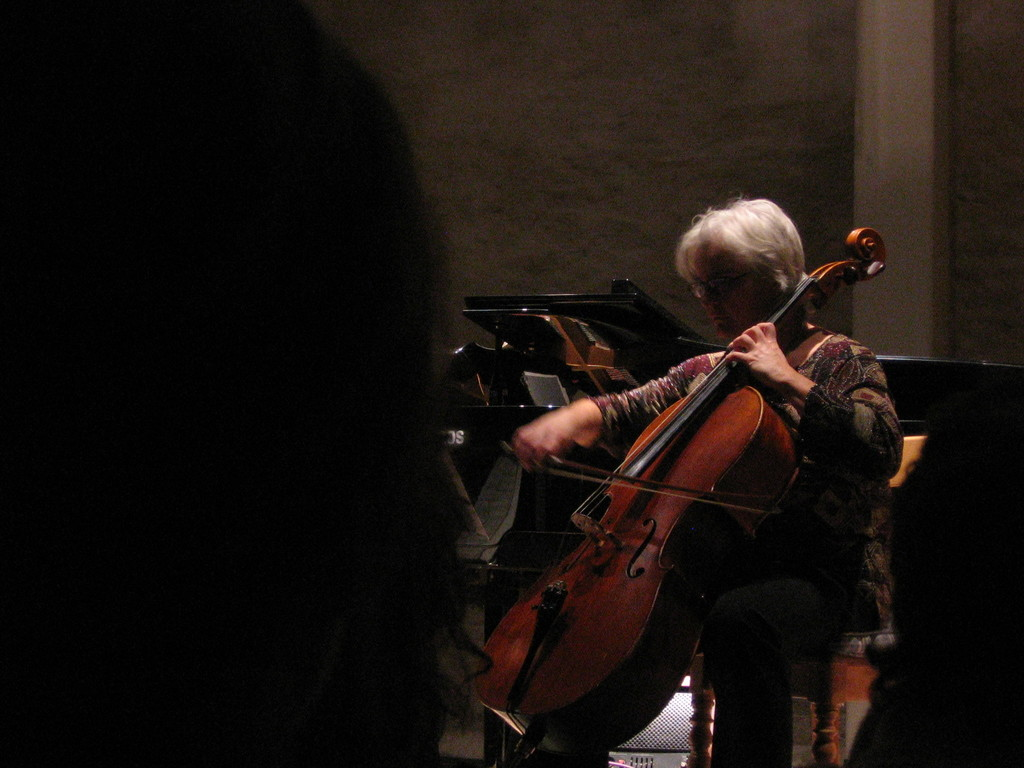Person: (508, 187, 904, 768)
